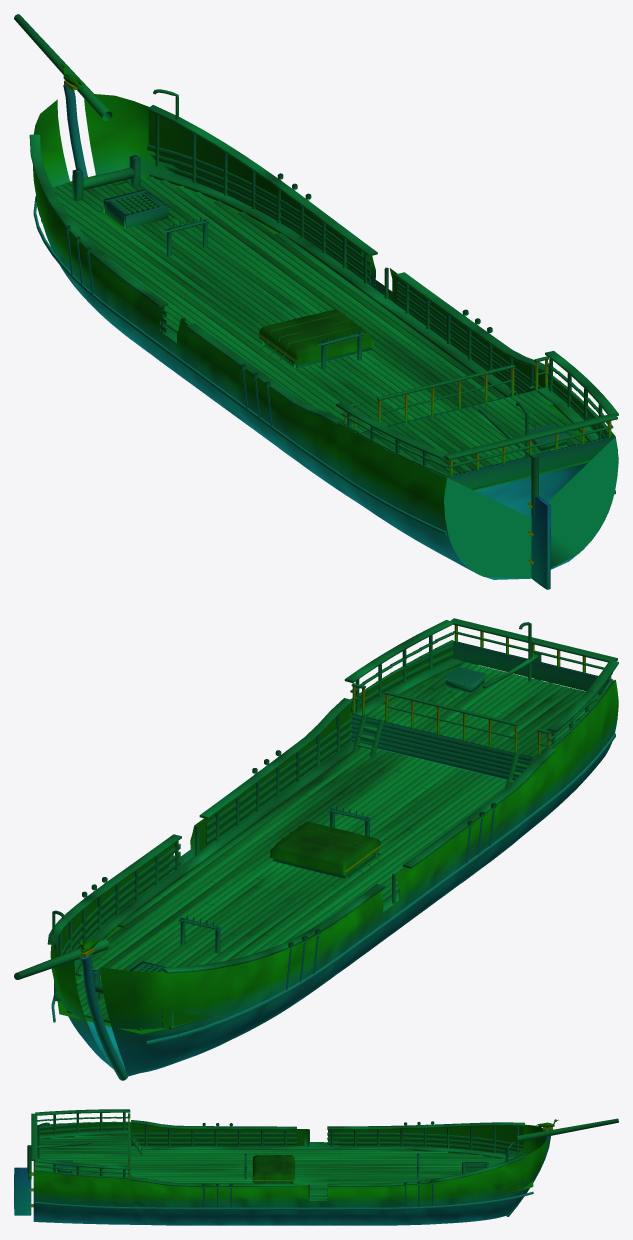
File: ferry_hull.glb
3 renders of one model, top to bottom at view 1: azimuth 30°, elevation 25°; view 2: azimuth 150°, elevation 25°; view 3: azimuth 270°, elevation 25°, orthographic. The views are drawn at different scales.
Parts seen in each view (by area): view 1: ferry_hull; view 2: ferry_hull; view 3: ferry_hull.
Part boxes in pixels (x1,y1,x2,y2): ferry_hull: (14, 14, 618, 589); ferry_hull: (14, 618, 618, 1080); ferry_hull: (14, 1109, 618, 1225).
Size of what is drawn, in the model's own units: 7.57 by 5.74 by 31.24.
